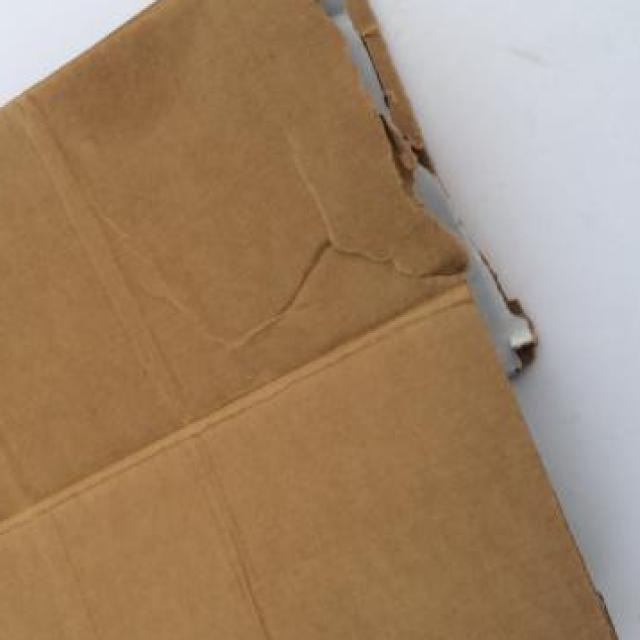organic: (7, 4, 632, 631)
